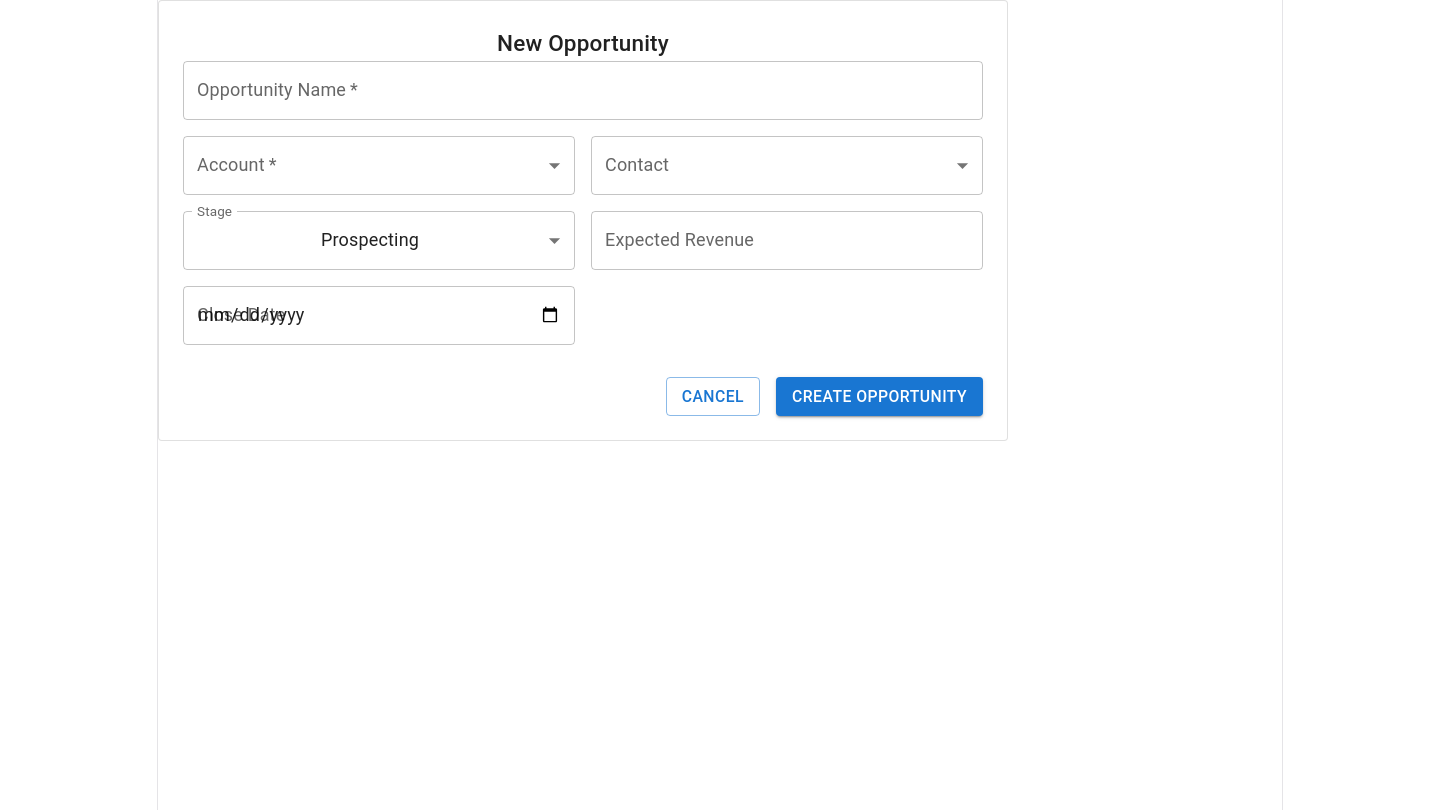
OpportunityFormPage › shows validation error when Account is not selected
Type "New Deal" into the field labelled "Opportunity Name *".
click(583, 90); type("New Deal")  # box 183,61 -> 983,120
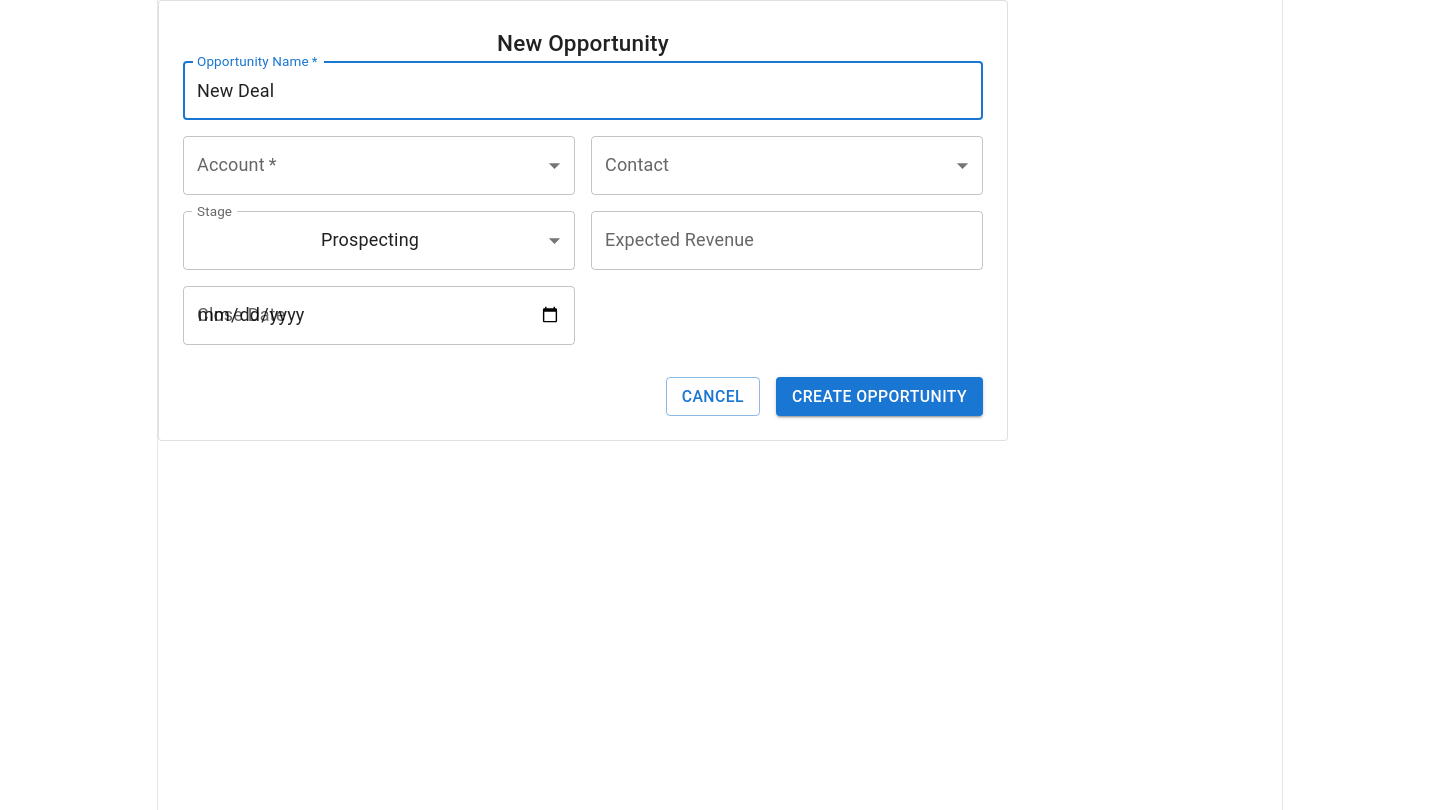
Click the button "Create Opportunity".
click(880, 396)  # box 776,376 -> 983,416
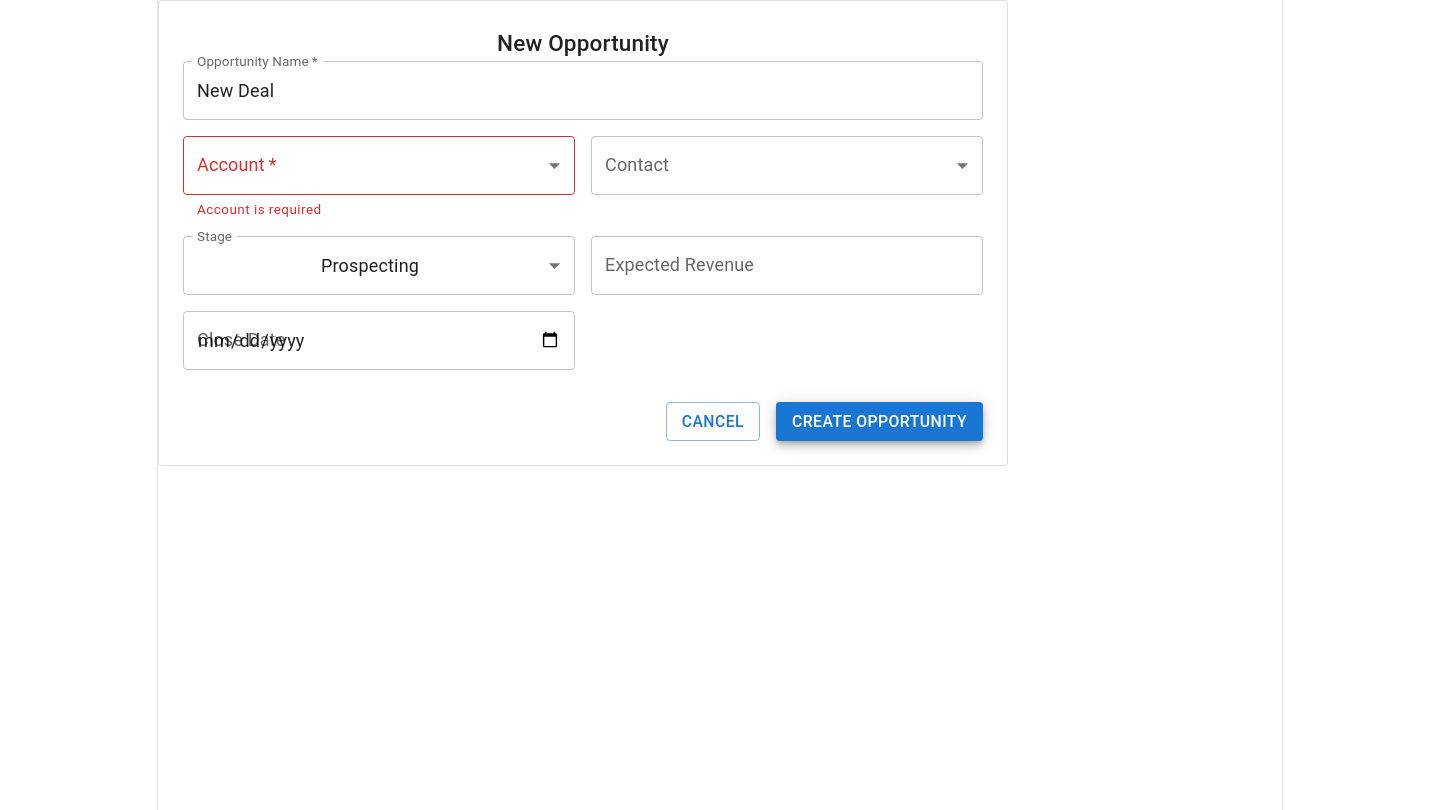
expect the text "Account is required" is shown: met, box 197,201 -> 322,217
